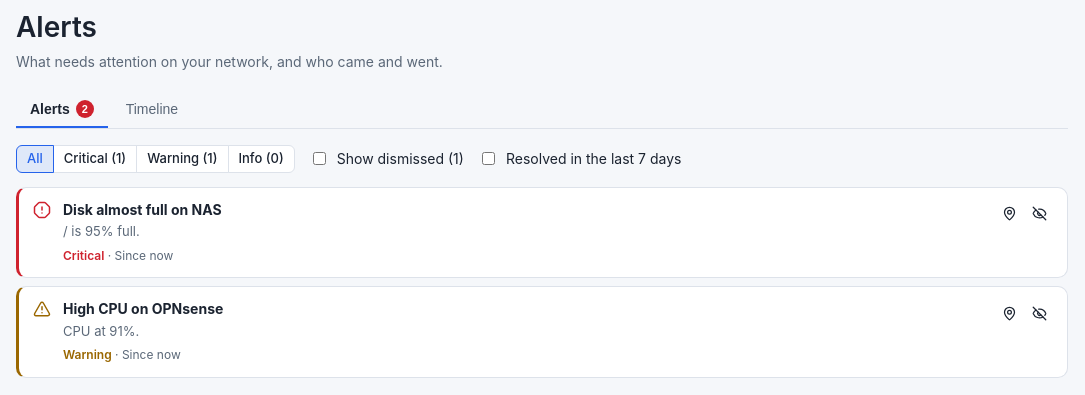
Test: AlertsView › lists open alerts, most severe first, hiding dismissed ones
Step 1. Click the button with test id "sev-critical" → {"x": 95, "y": 159}, box top-left (53, 145), bottom-right (137, 173)
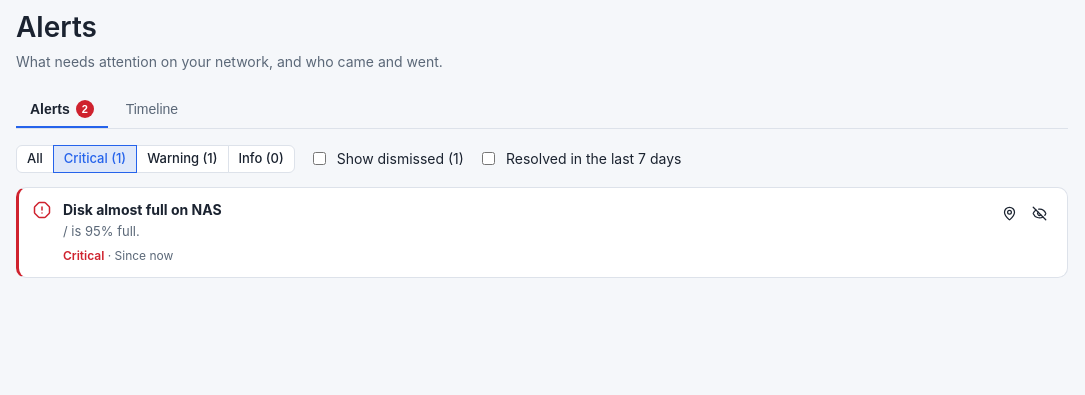
Check: the number of list items with test id "alert" is 1, box top-left (16, 187), bottom-right (1068, 278)
